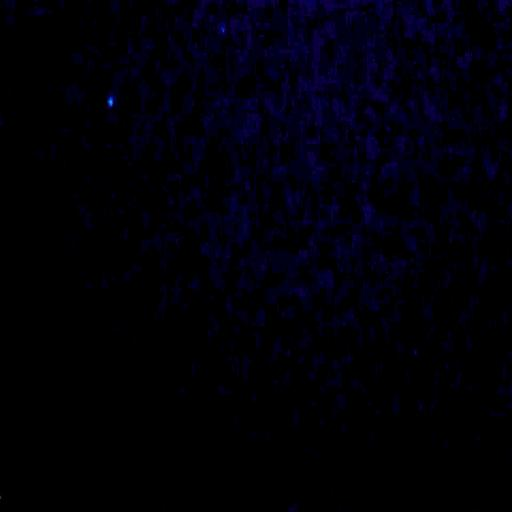object-detection-project: (107, 96, 114, 107)
